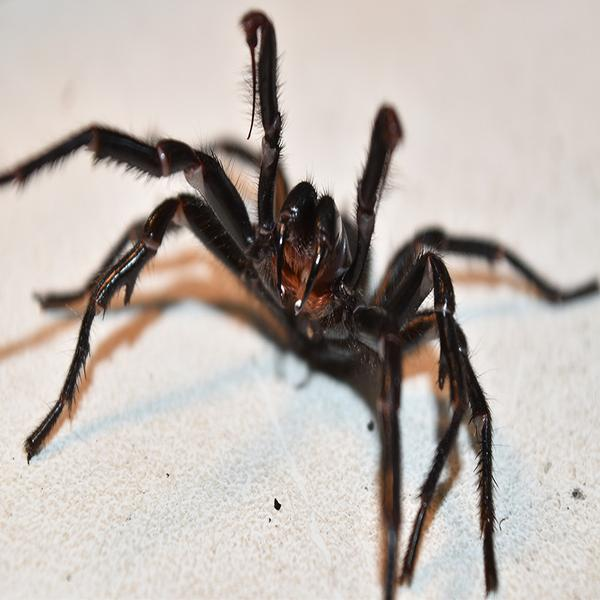Funnel Web Spider: (17, 15, 561, 578)
